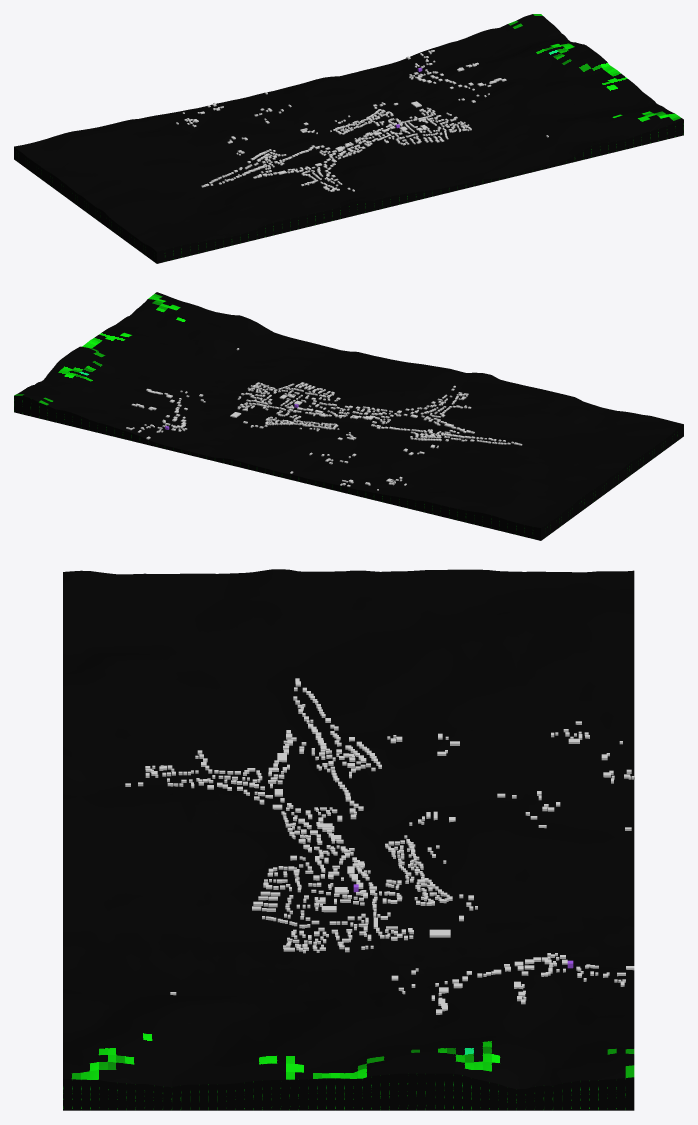
Rendered from 19380fc9-terrain_3d_mesh_3.5x1.7km_with_834_buildings_64x64.glb.
The picture shows the model from 3 angles, top to bottom: view 1: azimuth 30°, elevation 25°; view 2: azimuth 150°, elevation 25°; view 3: azimuth 270°, elevation 25°; orthographic projection. The views are drawn at different scales.
Parts seen in each view (by area): view 1: Terrain_3D_Model; view 2: Terrain_3D_Model; view 3: Terrain_3D_Model.
Boxes of the visible parts, x1,y1,x2,y2 form: Terrain_3D_Model: (14, 14, 683, 263); Terrain_3D_Model: (14, 292, 683, 540); Terrain_3D_Model: (63, 569, 634, 1110).
Size of the model in its own units: 100 by 3.4 by 47.01.
Materials: 3 (1 with a texture image).
